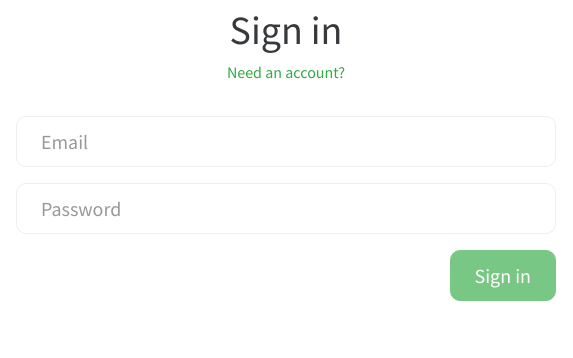
Auth — login page (/login) › shows errors on failed login
Type "bad@example.com" into the field with placeholder "Email" at (286, 142), box [16,116,556,167]
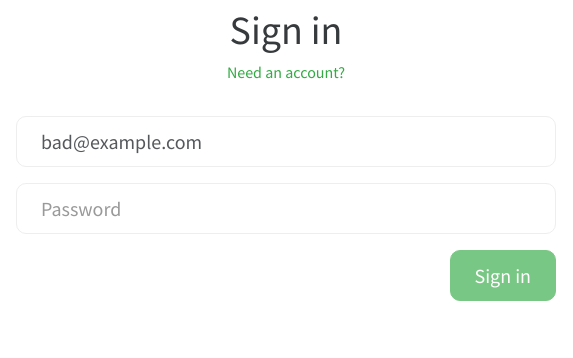
Type "wrong" into the password field with placeholder "Password" at (286, 208), box [16,183,556,234]
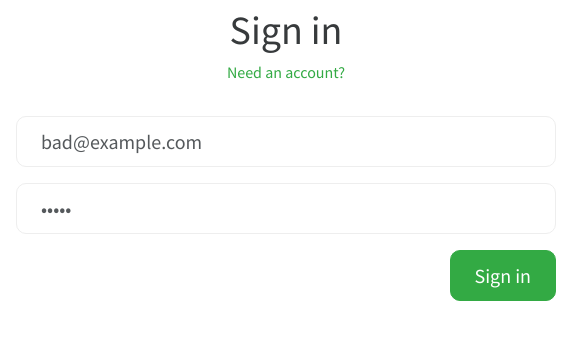
Submit the form "Sign in", box [16,100,556,301]
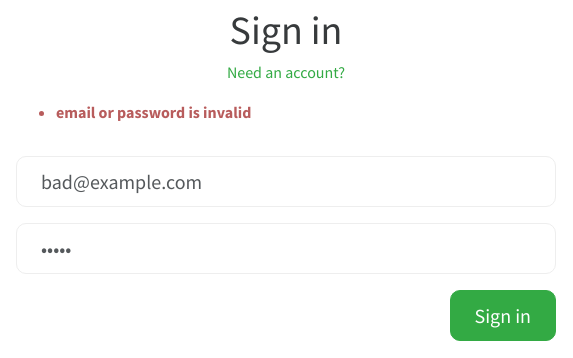
Now the list item "email or password is invalid" is shown, box [56,102,251,122]
